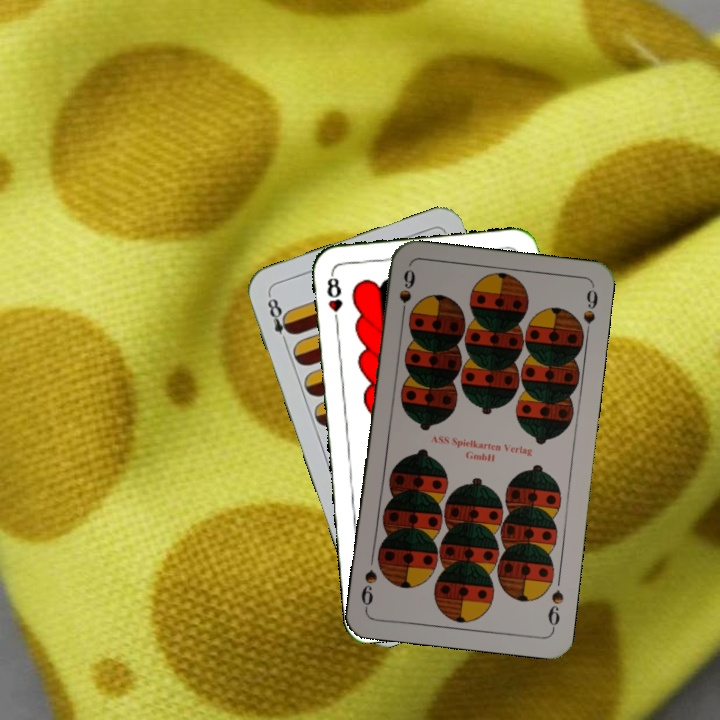E8: (263, 291, 296, 349)
H8: (322, 269, 345, 328)
S9: (395, 265, 418, 324), (544, 586, 566, 633)
